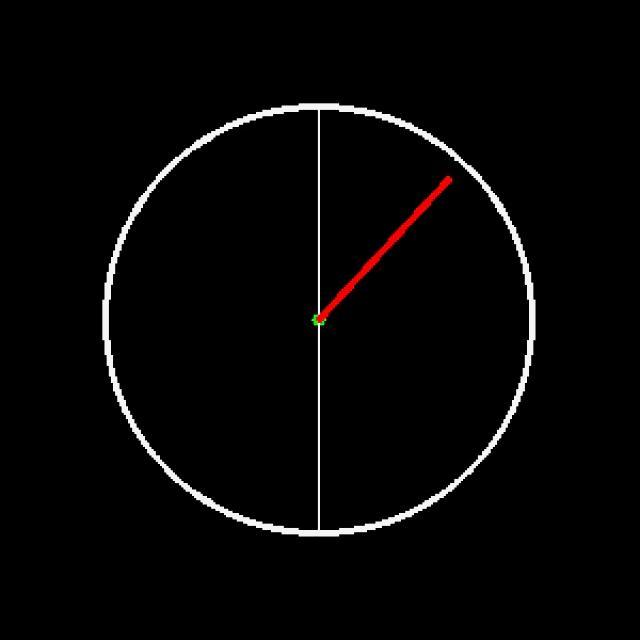Needle_Tip: (419, 159, 465, 201)
Needle_base: (280, 283, 342, 356)
